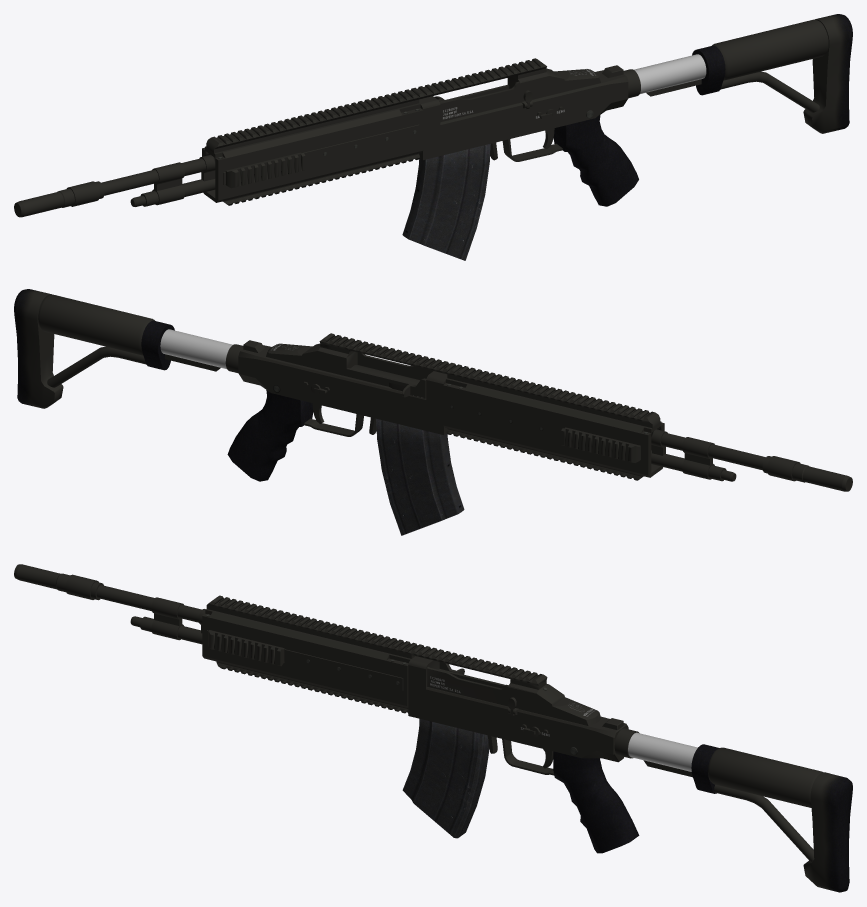
Rendered from weapon_marksmanrifle.glb.
The picture shows the model from 3 angles, top to bottom: view 1: azimuth 30°, elevation 25°; view 2: azimuth 150°, elevation 25°; view 3: azimuth 330°, elevation 25°; orthographic projection.
Parts seen in each view (by area): view 1: rail_marksmanrifle, stock_marksmanrifle, main_frame_marksmanrifle, magazine_marksmanrifle, barrel_marksmanrifle, grip_marksmanrifle; view 2: rail_marksmanrifle, main_frame_marksmanrifle, stock_marksmanrifle, magazine_marksmanrifle, barrel_marksmanrifle, grip_marksmanrifle; view 3: rail_marksmanrifle, main_frame_marksmanrifle, stock_marksmanrifle, magazine_marksmanrifle, grip_marksmanrifle, barrel_marksmanrifle.
Boxes of the visible parts, box(x1,y1,x2,y2) form: rail_marksmanrifle: box(202, 58, 546, 205); stock_marksmanrifle: box(634, 14, 852, 133); main_frame_marksmanrifle: box(419, 65, 640, 160); magazine_marksmanrifle: box(402, 143, 490, 260); barrel_marksmanrifle: box(14, 154, 215, 217); grip_marksmanrifle: box(502, 115, 638, 206); rail_marksmanrifle: box(319, 333, 664, 480); main_frame_marksmanrifle: box(225, 340, 447, 434); stock_marksmanrifle: box(14, 289, 232, 408); magazine_marksmanrifle: box(376, 418, 464, 535); barrel_marksmanrifle: box(651, 429, 852, 491); grip_marksmanrifle: box(227, 390, 363, 481); rail_marksmanrifle: box(202, 595, 547, 713); main_frame_marksmanrifle: box(407, 656, 639, 762); stock_marksmanrifle: box(628, 732, 852, 892); magazine_marksmanrifle: box(402, 718, 489, 838); grip_marksmanrifle: box(502, 739, 639, 853); barrel_marksmanrifle: box(14, 564, 205, 644).
Size of the model in its own units: 125 by 25.57 by 7.24.
Materials: 3 (3 with a texture image).
